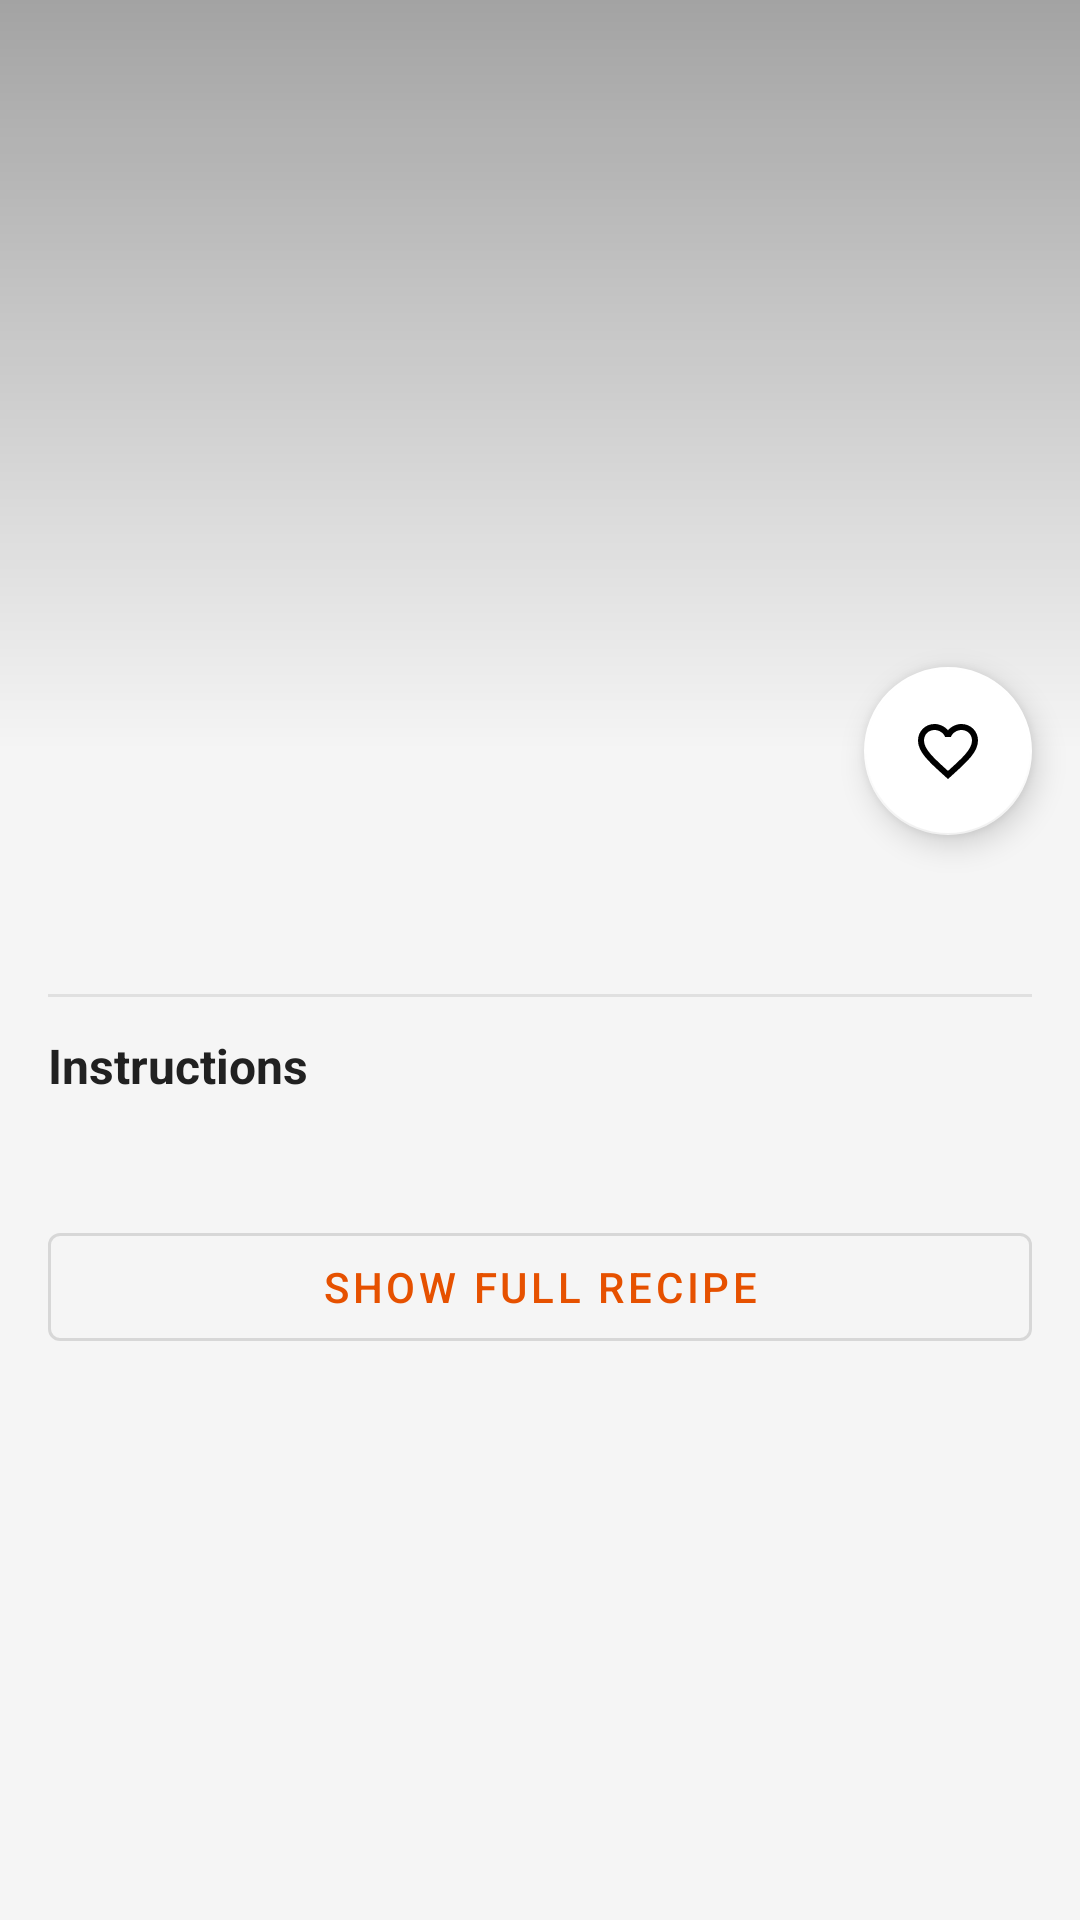

Icon click points for this 1080px x 1920px phone screenshot, format (x,y):
favorite: (948,751)
